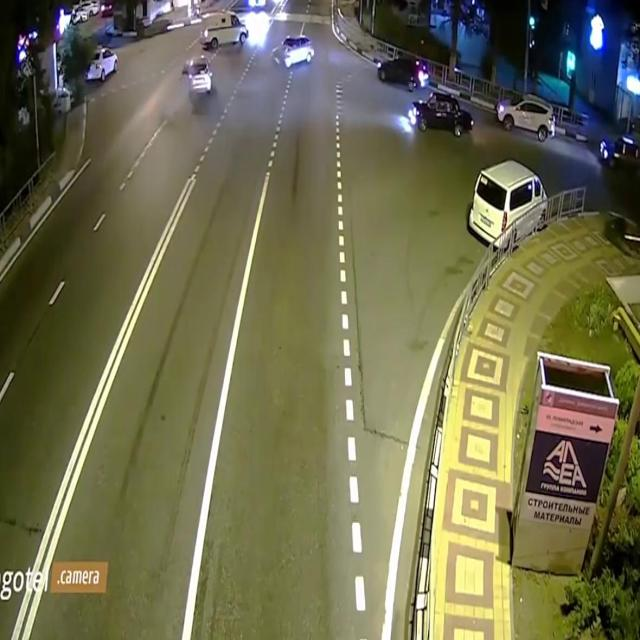accident: (269, 20, 316, 84), (176, 42, 220, 108)
non_accident: (373, 47, 479, 145)
